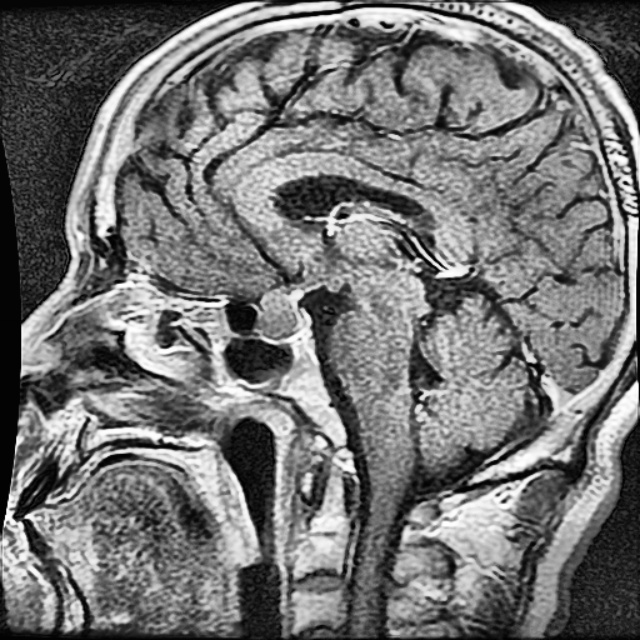Pituitary: (257, 288, 303, 340)
